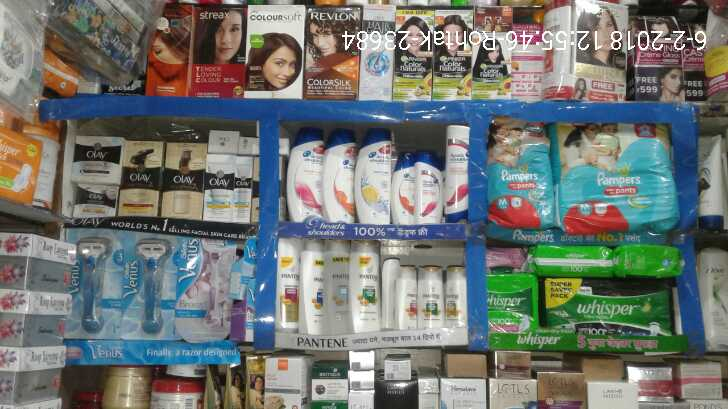venus: (175, 240, 236, 343), (127, 231, 175, 343), (78, 232, 127, 339)
